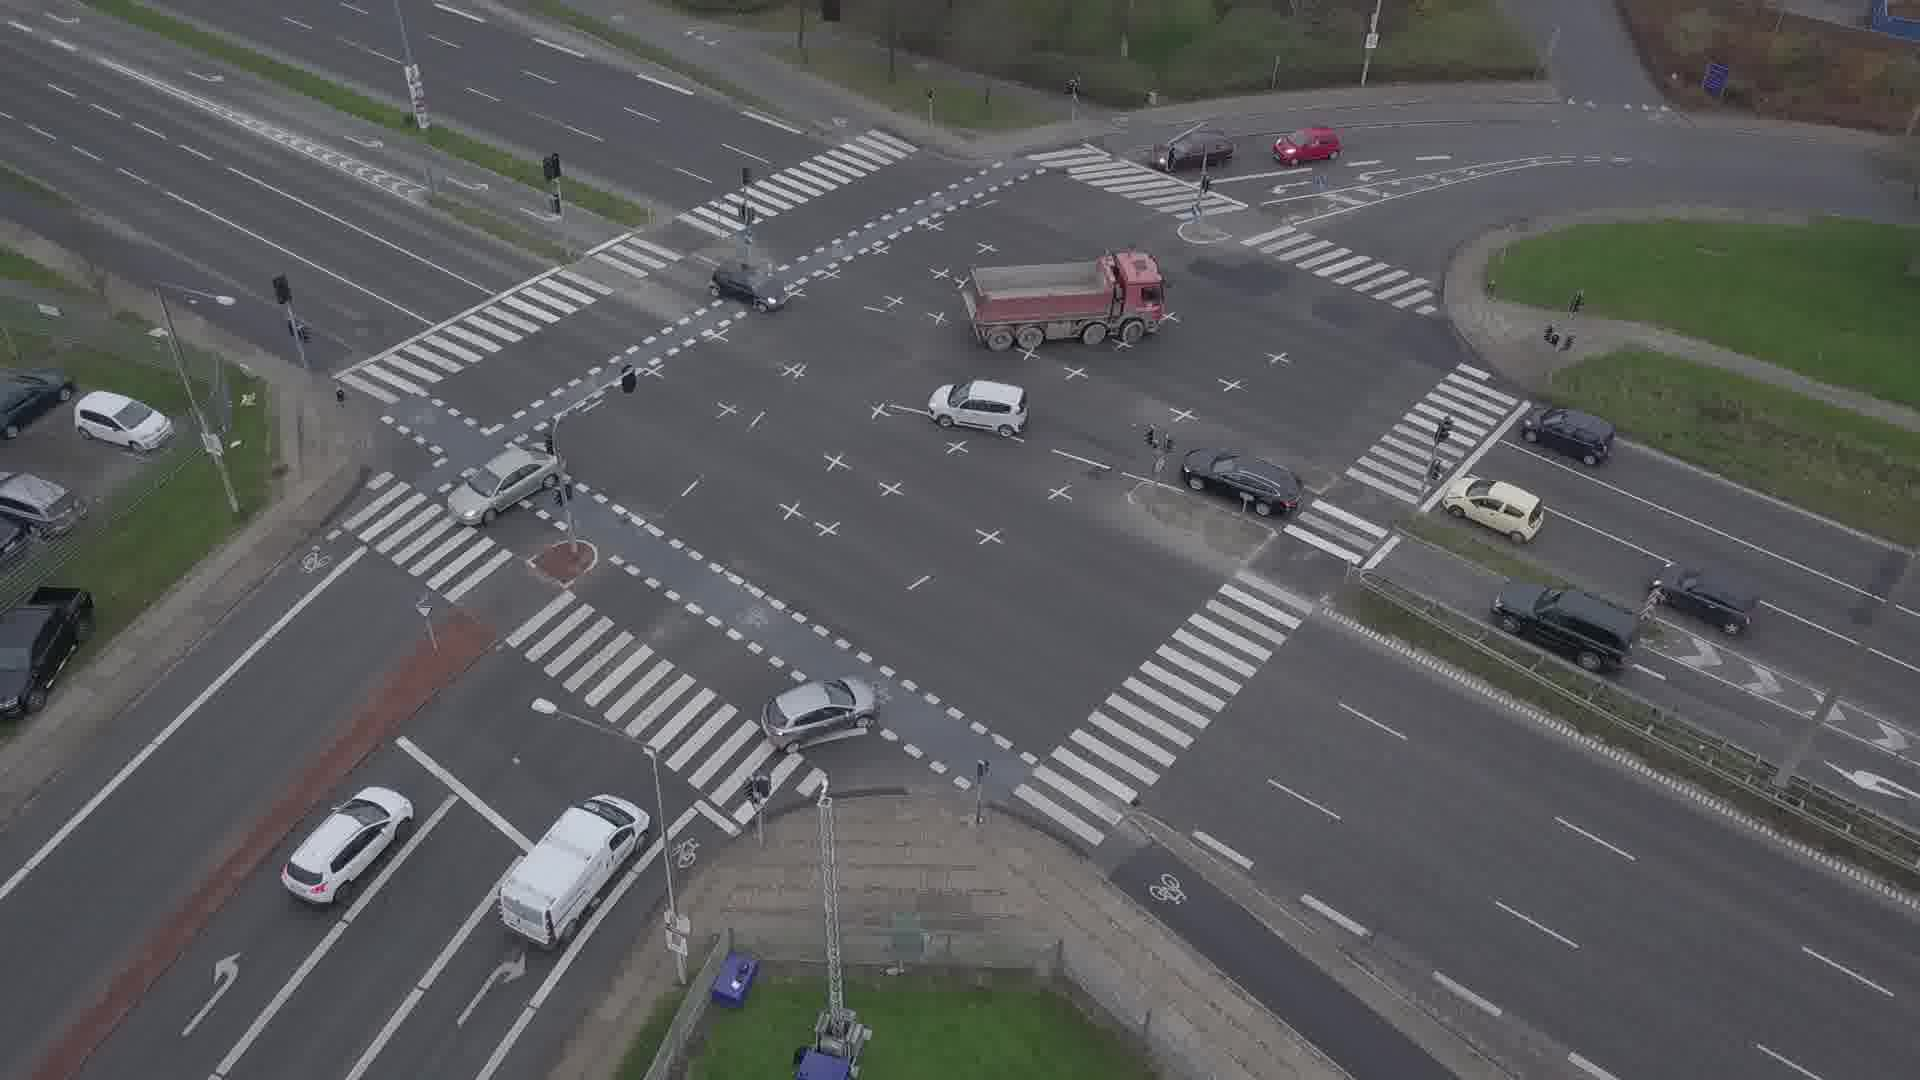car: (280, 787, 414, 905), (1490, 583, 1640, 671), (447, 441, 568, 525), (760, 677, 878, 754), (1180, 448, 1306, 517), (1647, 563, 1758, 636), (1442, 477, 1544, 544), (926, 379, 1028, 437), (1520, 405, 1614, 465), (708, 261, 788, 313), (1150, 131, 1233, 172), (1272, 127, 1341, 166)
lorry: (496, 794, 650, 949), (961, 251, 1166, 351)
